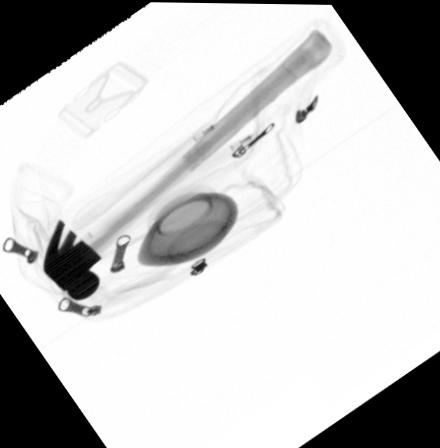Hammer: (43, 25, 335, 300)
